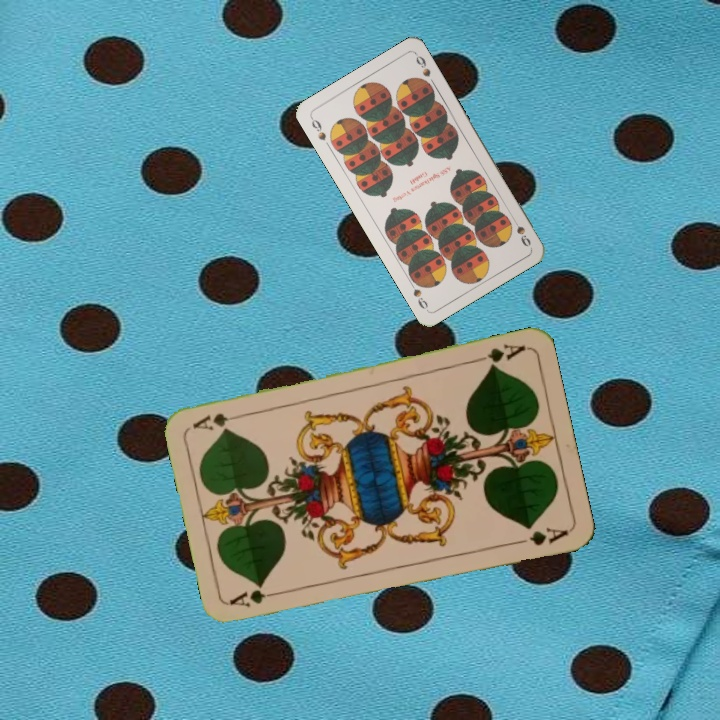GA: (470, 339, 528, 371), (226, 585, 286, 610)
S9: (507, 212, 534, 249), (306, 113, 329, 143)
